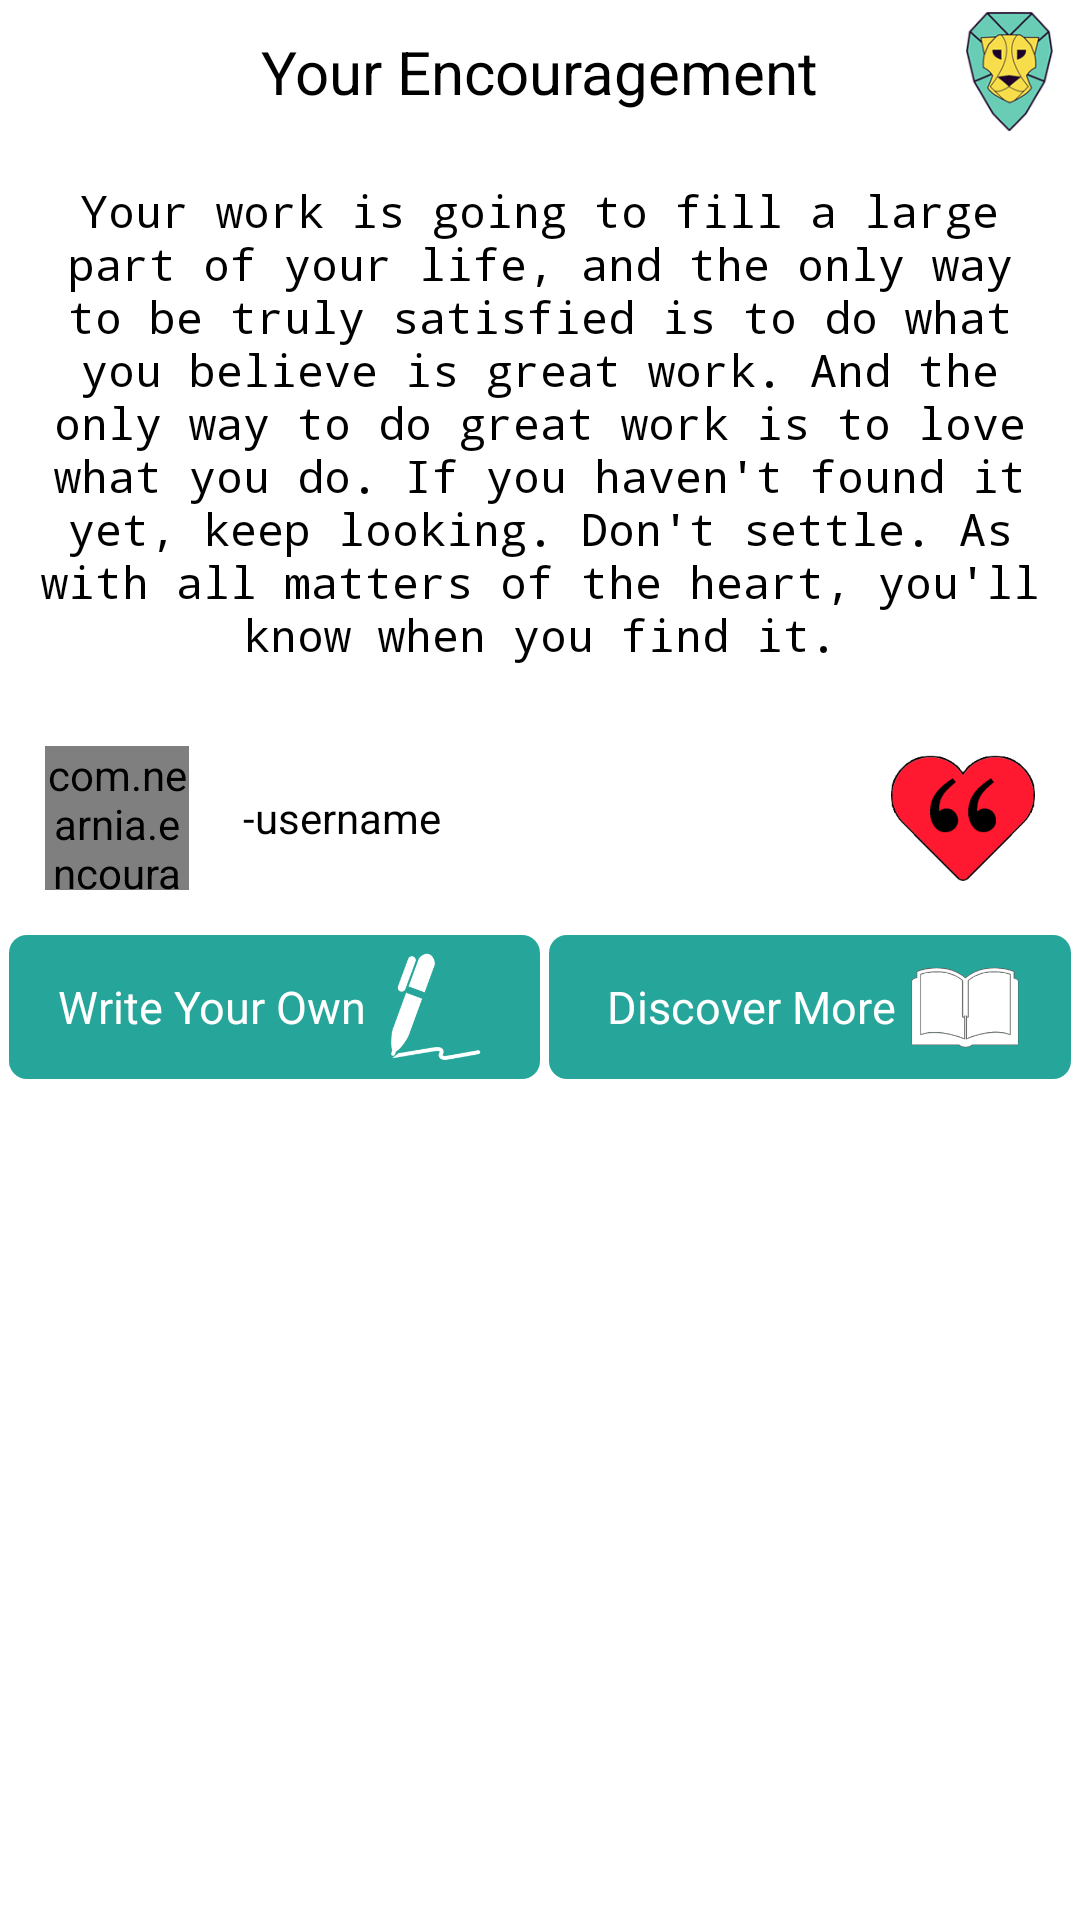

Icons on this 1080×1920 Android screen, each with the point to tap as (x,y):
fullheart: (963,818)
whitebook: (965,1008)
whitepen: (436,1006)
